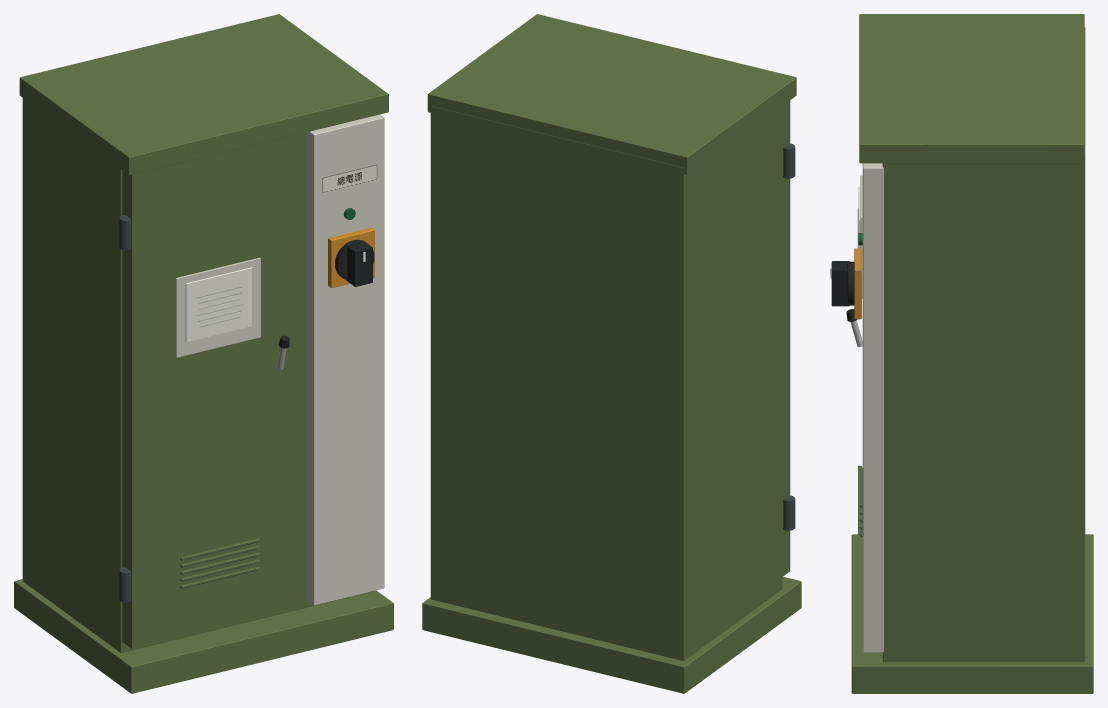
The model's file is power.glb.
3 views of the same model, side by side, from view 1: azimuth 30°, elevation 25°; view 2: azimuth 150°, elevation 25°; view 3: azimuth 270°, elevation 25° (orthographic). The views are drawn at different scales.
Visible parts, largest first — view 1: POWER_MAIN_Body, POWER_MAIN_Door_Mesh, POWER_MAIN_Disconnect_Mesh; view 2: POWER_MAIN_Body, POWER_MAIN_Door_Mesh; view 3: POWER_MAIN_Body, POWER_MAIN_Door_Mesh, POWER_MAIN_Disconnect_Mesh.
Part boxes in pixels (x1,y1,x2,y2): POWER_MAIN_Body: (14, 14, 393, 693); POWER_MAIN_Door_Mesh: (122, 132, 305, 648); POWER_MAIN_Disconnect_Mesh: (346, 241, 372, 286); POWER_MAIN_Body: (422, 14, 801, 693); POWER_MAIN_Door_Mesh: (782, 100, 790, 576); POWER_MAIN_Body: (847, 14, 1093, 693); POWER_MAIN_Door_Mesh: (846, 175, 862, 536); POWER_MAIN_Disconnect_Mesh: (830, 261, 849, 306).
Size of the model in its own units: 1.03 by 1.98 by 0.86.
Materials: 10 (1 with a texture image).
